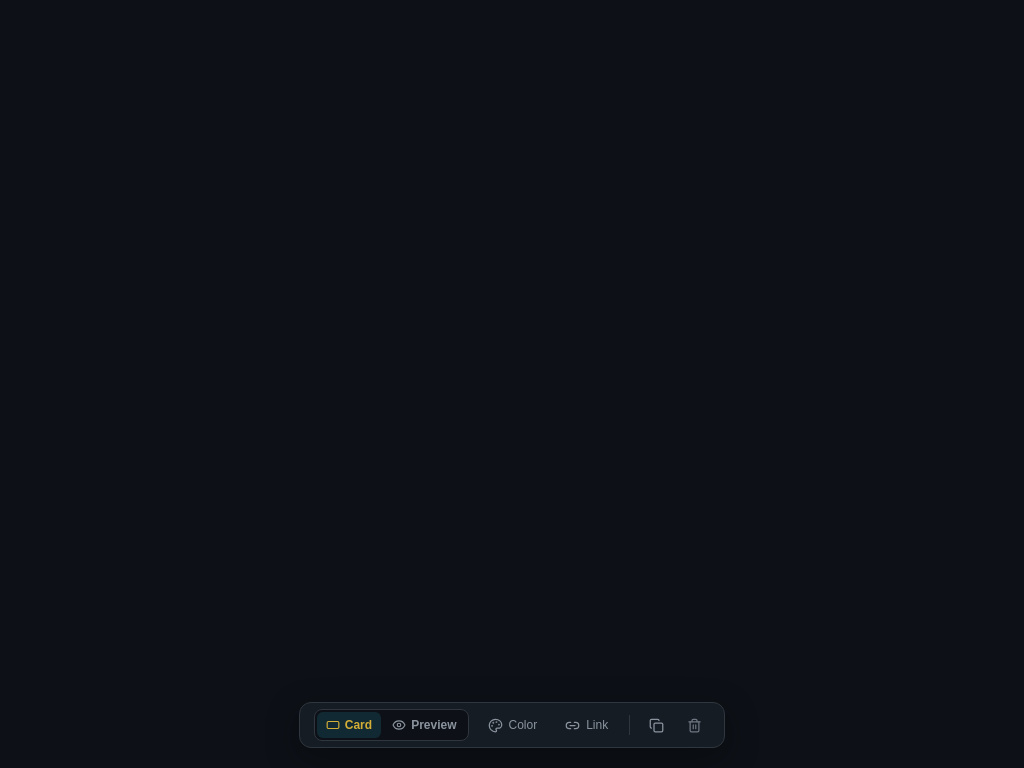
Test: Canvas Compact/Preview File Nodes, Toolbar, Companion Tree & External Links › 4. CanvasInspector shows Card/Preview toggle only for .md and .pdf file nodes
Click the button with class "inspector-mode-toggle-btn" showing "Preview" at coordinates (424, 725), box [383,712,466,738]
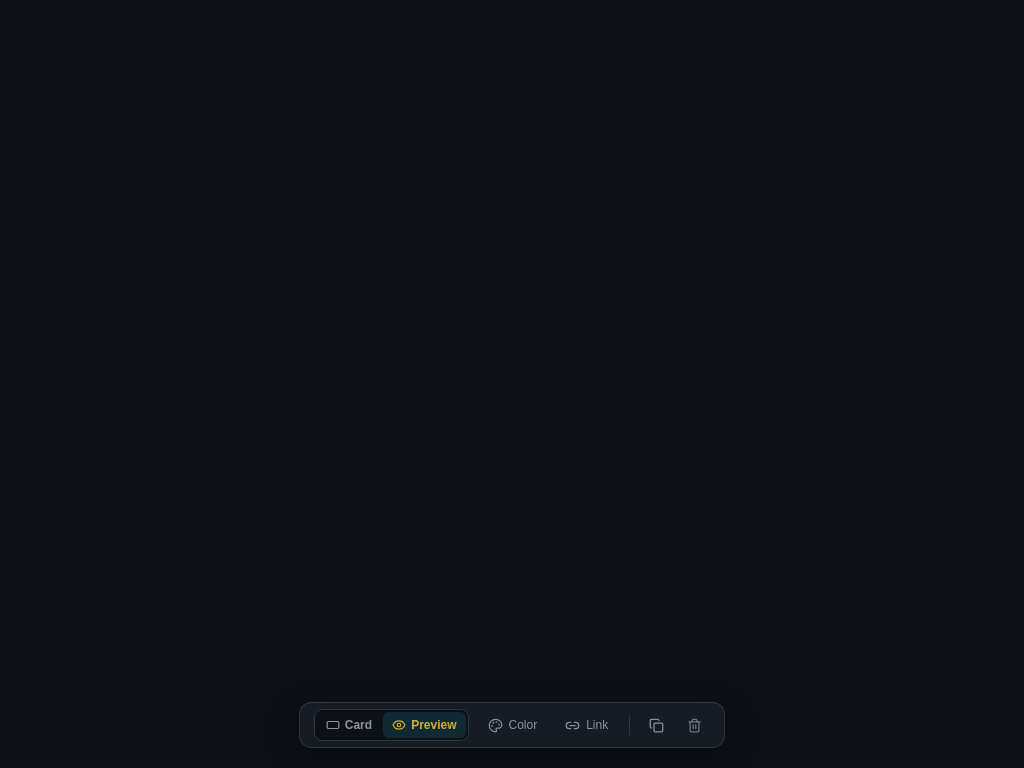
Expected: the button with class "inspector-mode-toggle-btn" does not have class "active"
Expected: the button with class "inspector-mode-toggle-btn" has class "active", [383,712,466,738]
Click the button with class "inspector-mode-toggle-btn" showing "Card" at coordinates (349, 725), box [317,712,381,738]
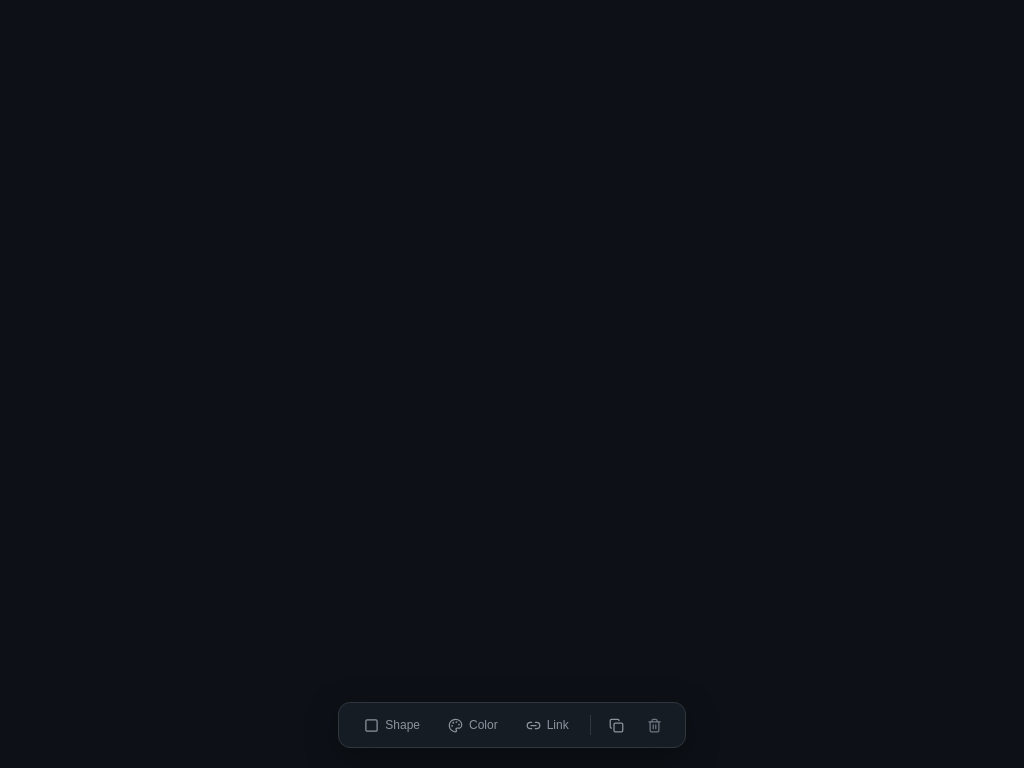
Expected: the button with class "inspector-display-mode-toggle" is gone
